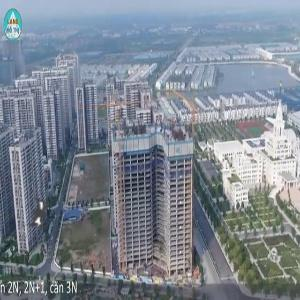drone: (2, 173, 82, 253)
